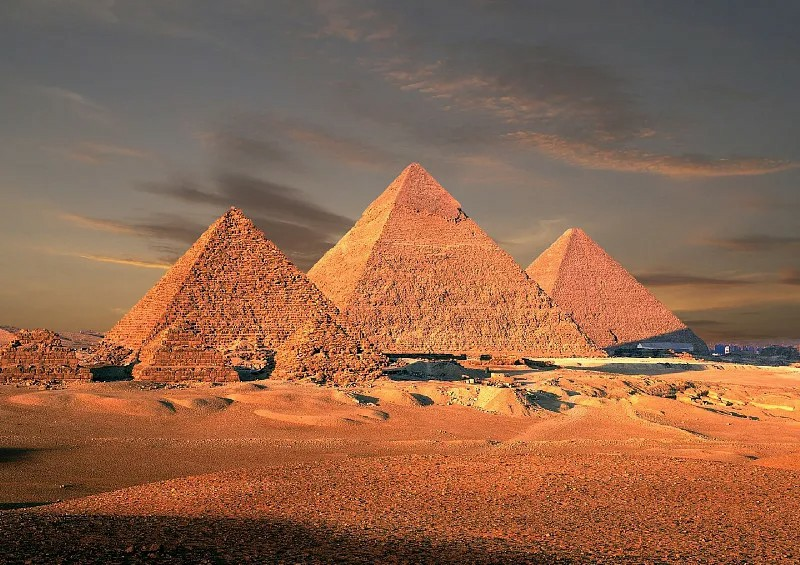Pyramid: (308, 161, 609, 358), (87, 207, 382, 358), (525, 226, 709, 356), (271, 315, 382, 378), (132, 323, 240, 383)
